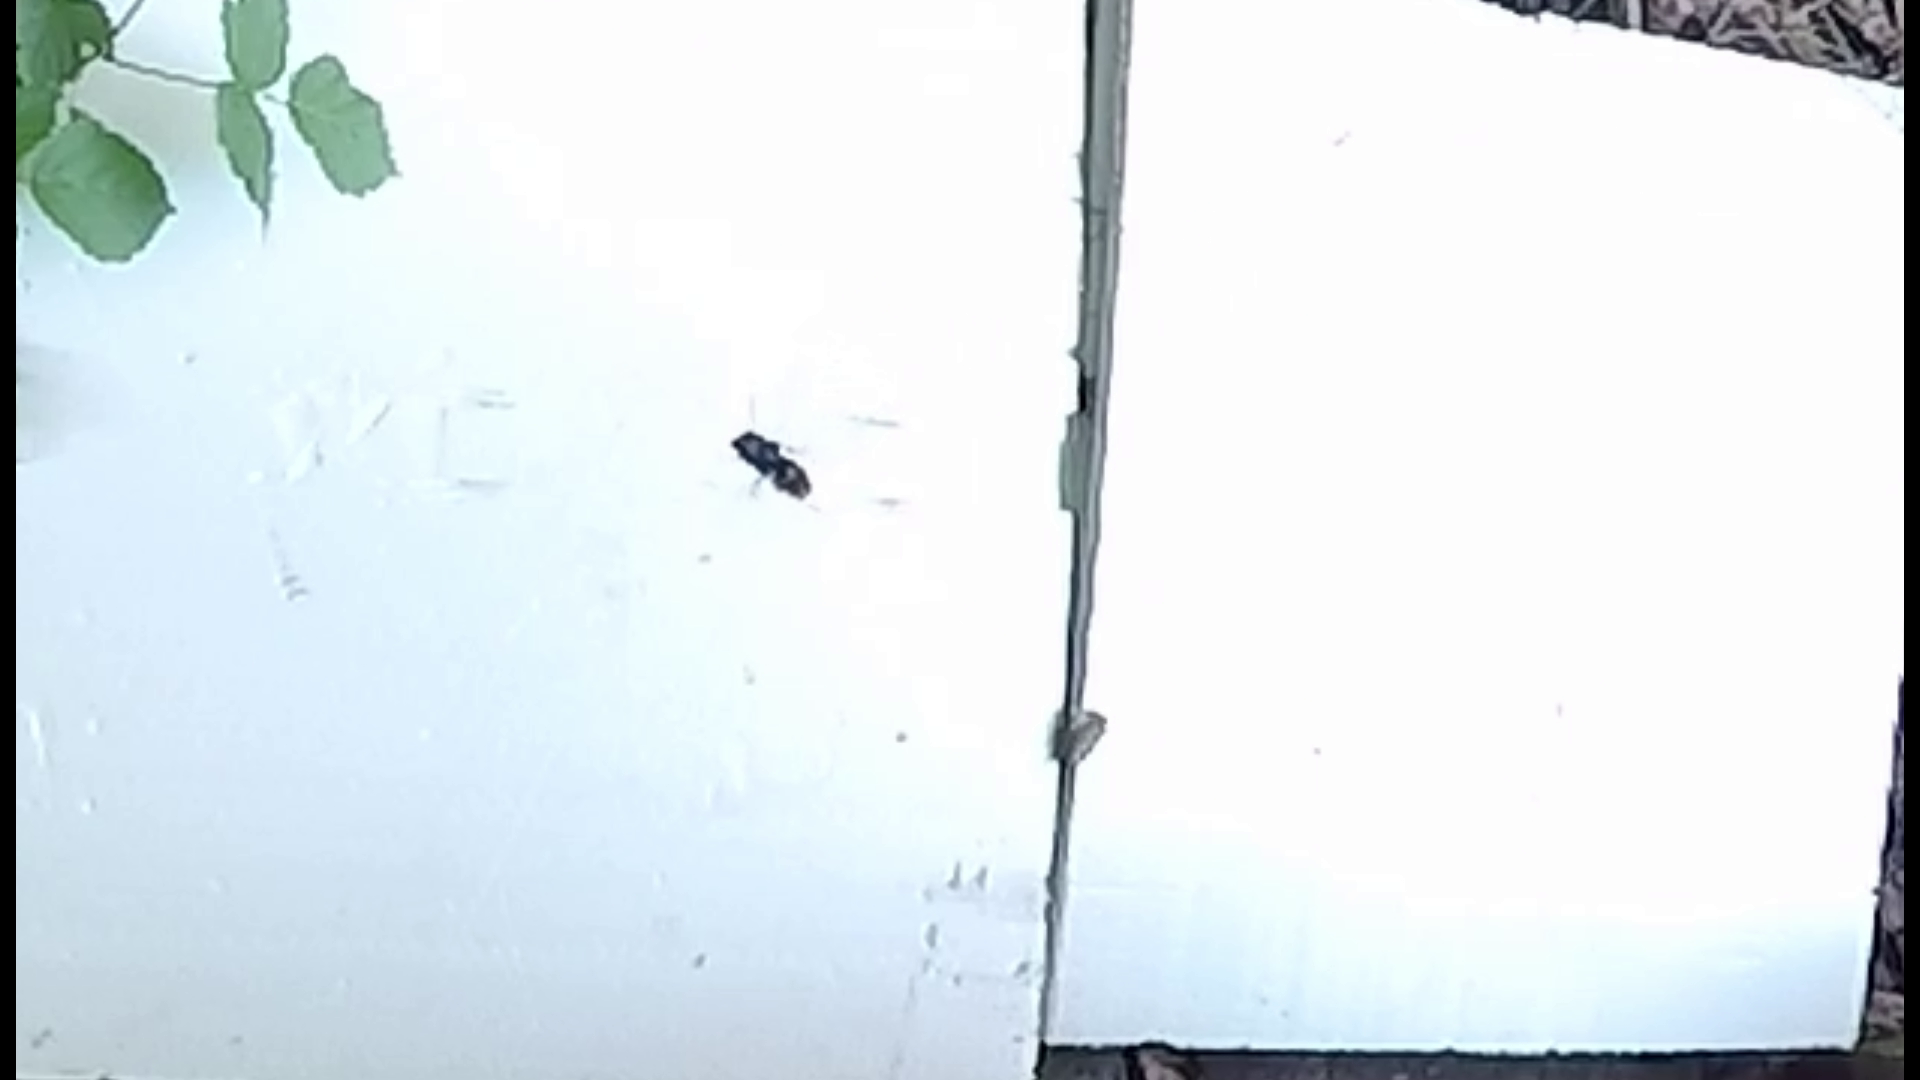Asian_hornets: (686, 406, 839, 521)
